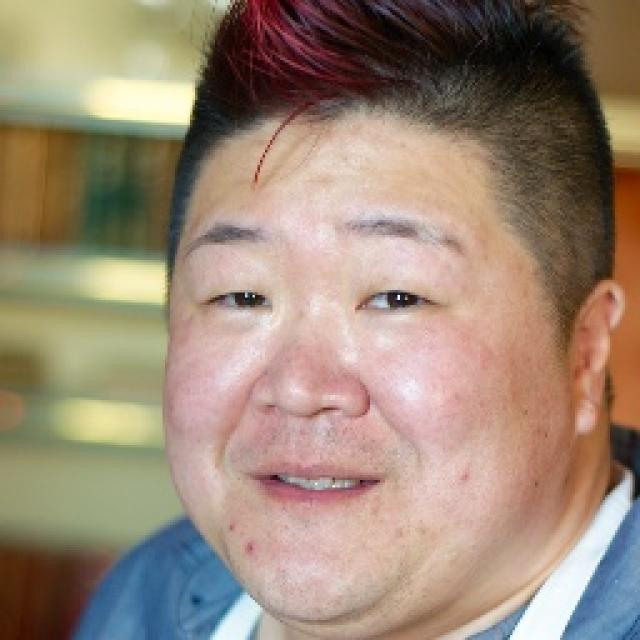earlobe: (568, 280, 627, 436)
